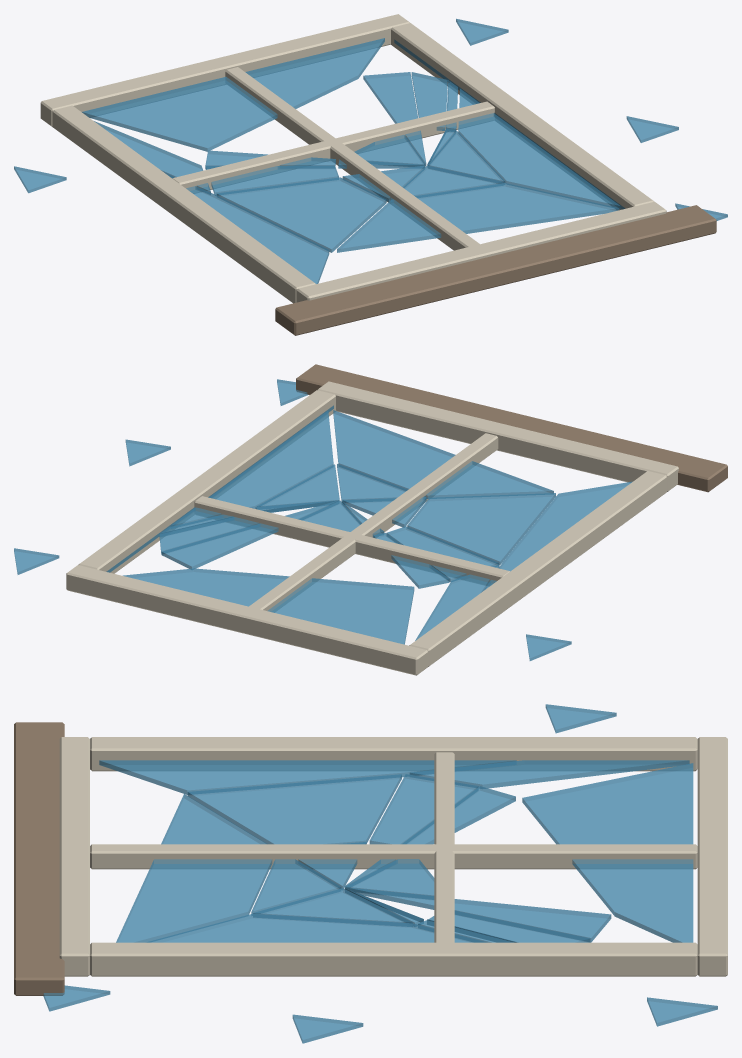
File: DEBRIS_08_ShatteredWindowPanel.obj
3 views of the same model, one above another, from view 1: azimuth 30°, elevation 25°; view 2: azimuth 150°, elevation 25°; view 3: azimuth 270°, elevation 25° (orthographic). The views are drawn at different scales.
Visible parts, largest first — view 1: DEBRIS_08_ShatteredWindowPanel_Glass_Shards, DEBRIS_08_ShatteredWindowPanel_Frame, DEBRIS_08_ShatteredWindowPanel_Sill, DEBRIS_08_ShatteredWindowPanel_Loose_Shards; view 2: DEBRIS_08_ShatteredWindowPanel_Frame, DEBRIS_08_ShatteredWindowPanel_Glass_Shards, DEBRIS_08_ShatteredWindowPanel_Sill, DEBRIS_08_ShatteredWindowPanel_Loose_Shards; view 3: DEBRIS_08_ShatteredWindowPanel_Glass_Shards, DEBRIS_08_ShatteredWindowPanel_Frame, DEBRIS_08_ShatteredWindowPanel_Sill, DEBRIS_08_ShatteredWindowPanel_Loose_Shards.
Boxes of the visible parts, left/top/right/bottom form: DEBRIS_08_ShatteredWindowPanel_Glass_Shards: left=82, top=38, right=625, bottom=283; DEBRIS_08_ShatteredWindowPanel_Frame: left=40, top=14, right=666, bottom=303; DEBRIS_08_ShatteredWindowPanel_Sill: left=275, top=205, right=716, bottom=335; DEBRIS_08_ShatteredWindowPanel_Loose_Shards: left=14, top=18, right=727, bottom=220; DEBRIS_08_ShatteredWindowPanel_Frame: left=66, top=381, right=678, bottom=675; DEBRIS_08_ShatteredWindowPanel_Glass_Shards: left=106, top=405, right=632, bottom=644; DEBRIS_08_ShatteredWindowPanel_Sill: left=296, top=364, right=727, bottom=492; DEBRIS_08_ShatteredWindowPanel_Loose_Shards: left=14, top=379, right=571, bottom=660; DEBRIS_08_ShatteredWindowPanel_Glass_Shards: left=99, top=760, right=693, bottom=942; DEBRIS_08_ShatteredWindowPanel_Frame: left=59, top=737, right=727, bottom=976; DEBRIS_08_ShatteredWindowPanel_Sill: left=14, top=722, right=64, bottom=995; DEBRIS_08_ShatteredWindowPanel_Loose_Shards: left=43, top=704, right=717, bottom=1043.
Size of the model in its own units: 1.57 by 0.05 by 1.41.
